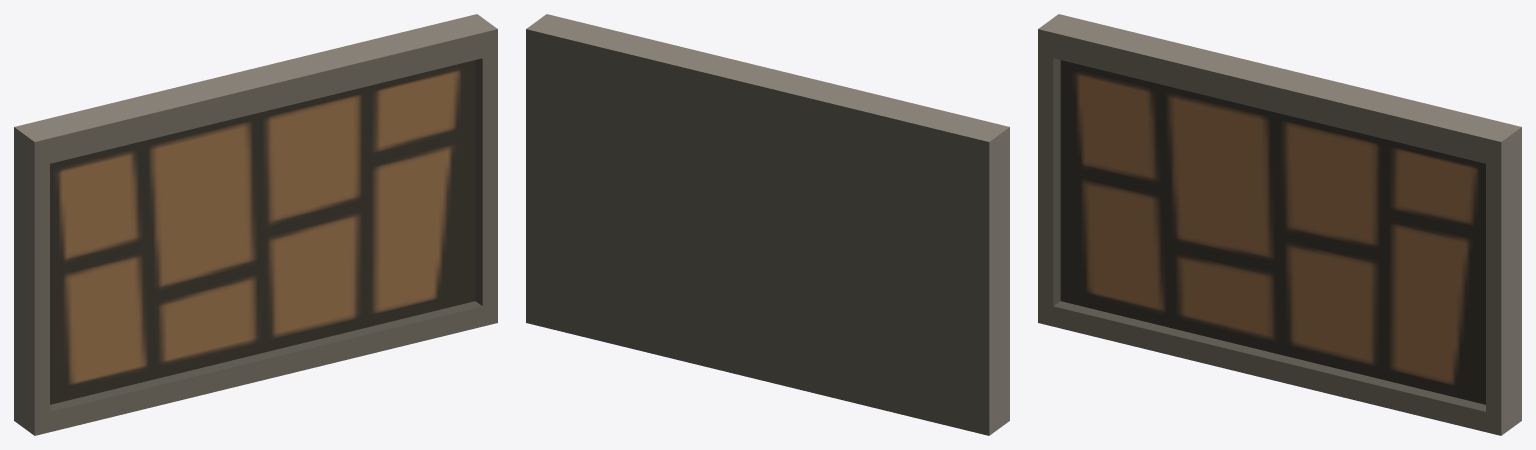
Rendered from Window_A13.fbx.
3 views of the same model, side by side, from view 1: azimuth 30°, elevation 25°; view 2: azimuth 150°, elevation 25°; view 3: azimuth 330°, elevation 25° (orthographic).
Parts seen in each view (by area): view 1: Window_A13; view 2: Window_A13; view 3: Window_A13.
Boxes of the visible parts, x1=… form: Window_A13: x1=14, y1=14, x2=497, y2=435; Window_A13: x1=526, y1=14, x2=1009, y2=435; Window_A13: x1=1038, y1=14, x2=1521, y2=435.
Size of the model in its own units: 375 by 227 by 28.95.
